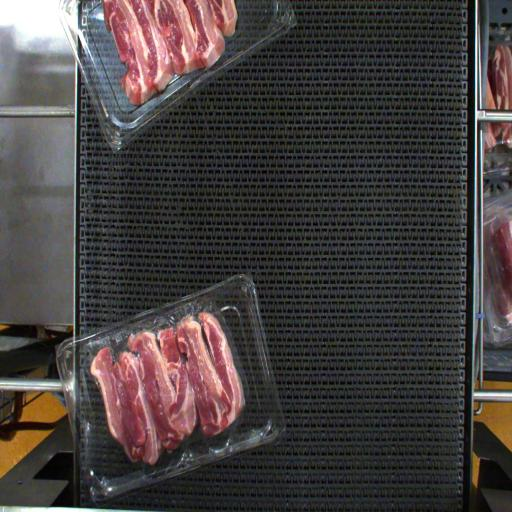unsealed: (94, 295, 268, 460)
